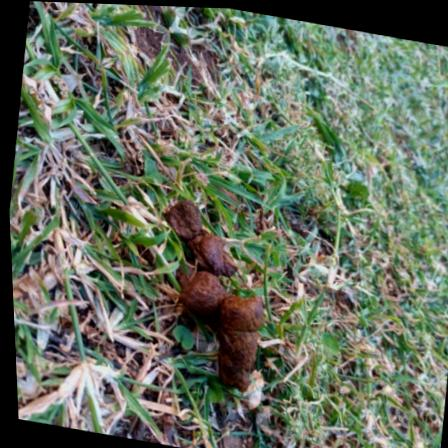dog-poop: (133, 192, 288, 397)
